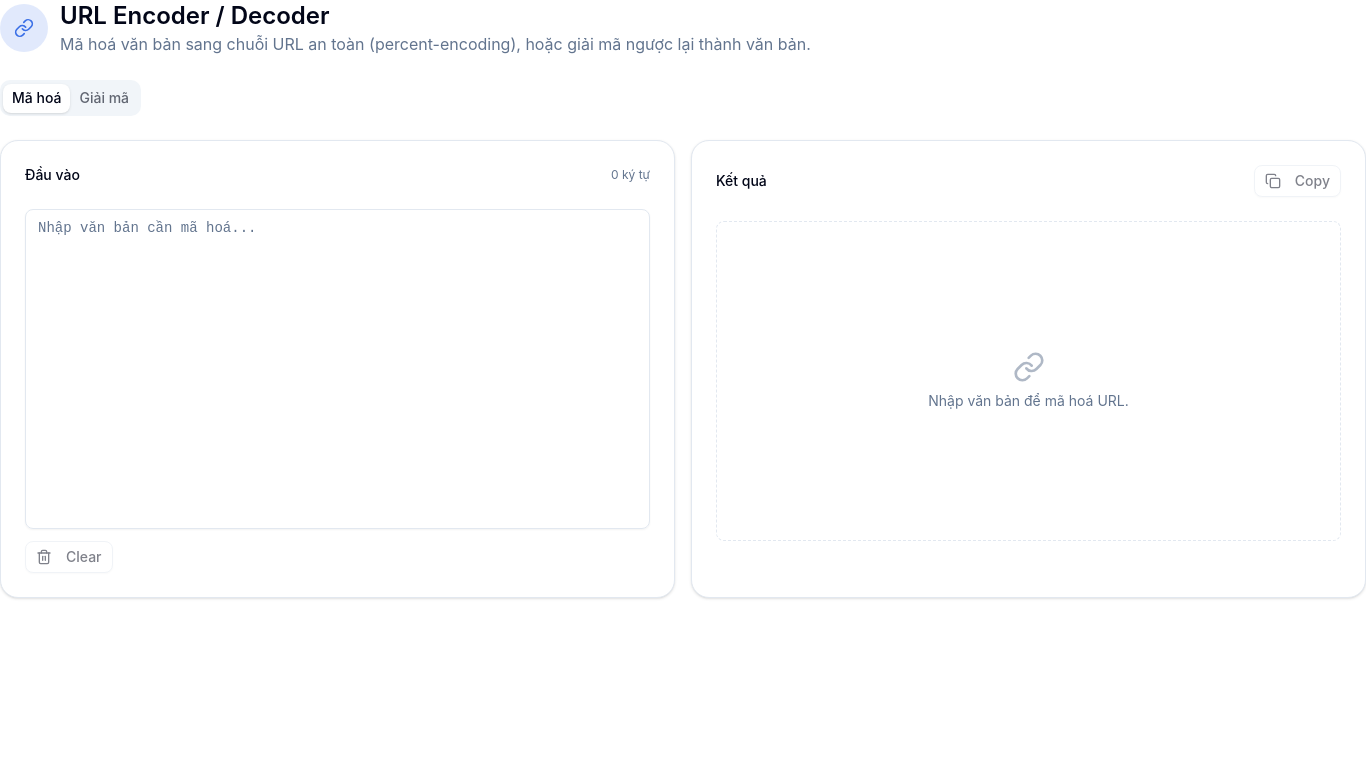
it: UrlEncoderDecoderScreen › disables Clear when everything is empty, and clears after confirming
Expected: the button "Clear" is disabled, [25,541,112,573]
Type "hello" into the text box named "Đầu vào". click: (338, 369)
box: [25,209,650,529]
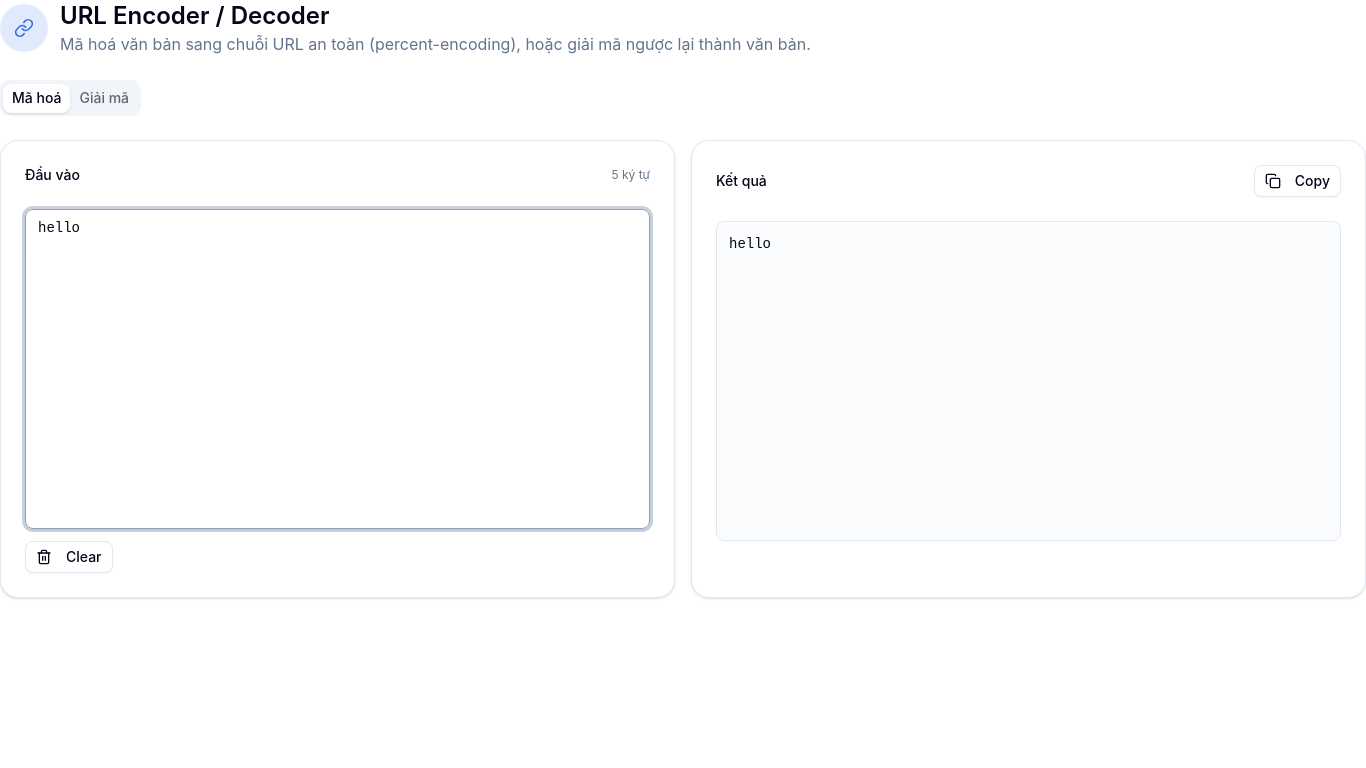
Expected: the button "Clear" is enabled
Click the button "Clear". click: (69, 557)
box: [25,541,112,573]
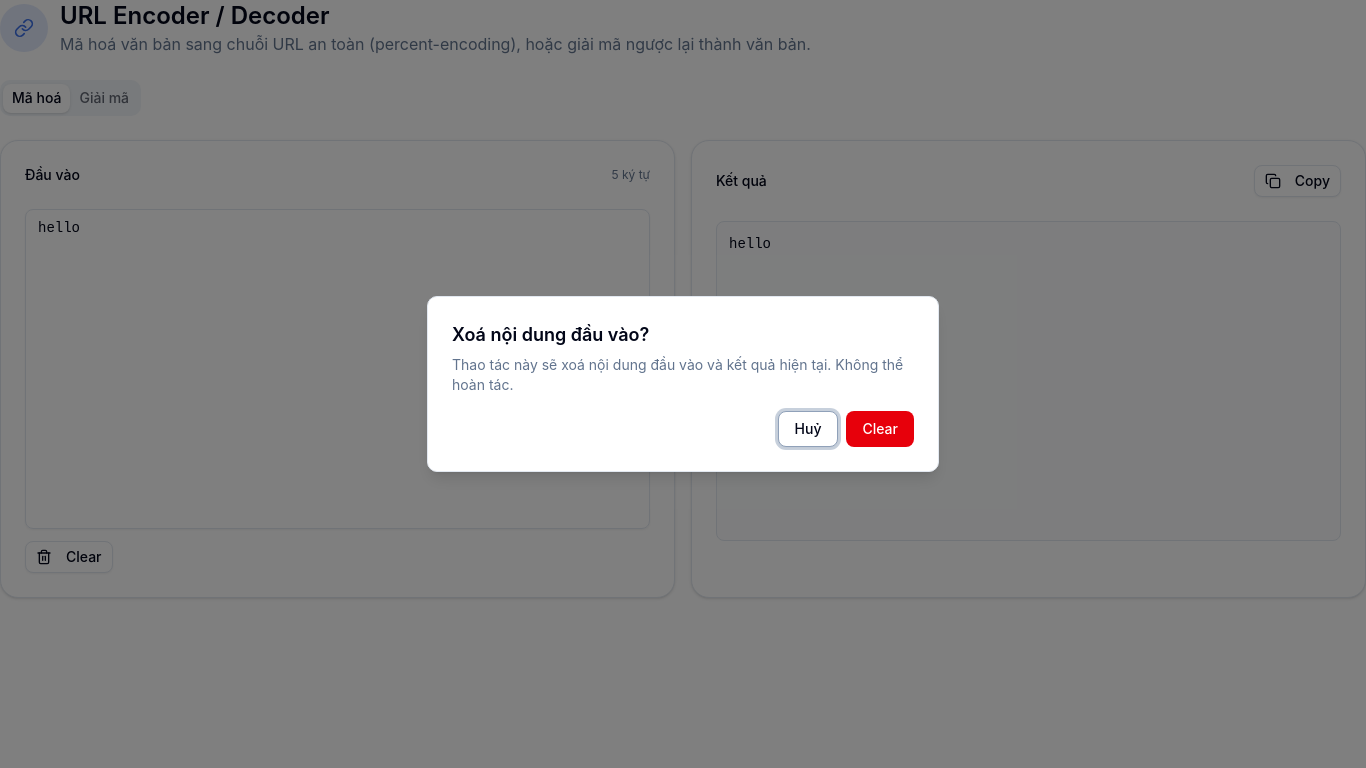
Click the button "Clear". click: (880, 429)
box: [846,411,914,447]
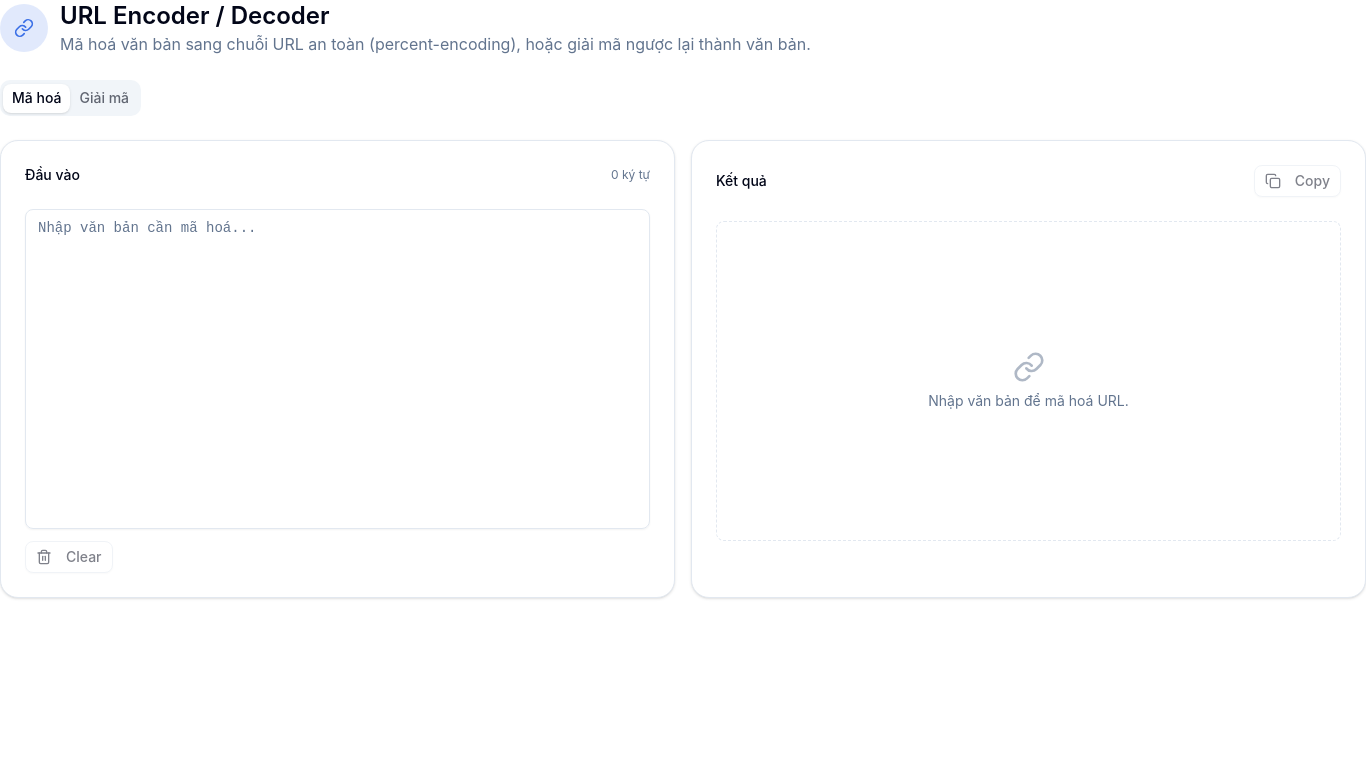
Expected: the text box named "Đầu vào" is empty, [25,209,650,529]
